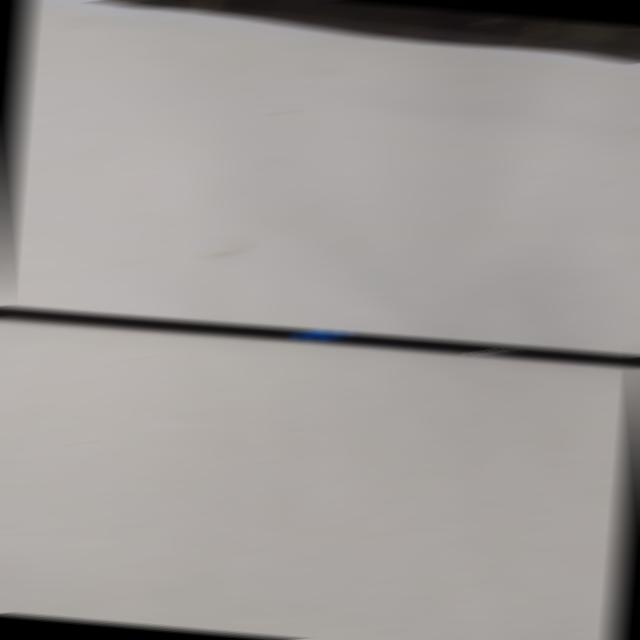blue: (298, 329, 344, 342)
